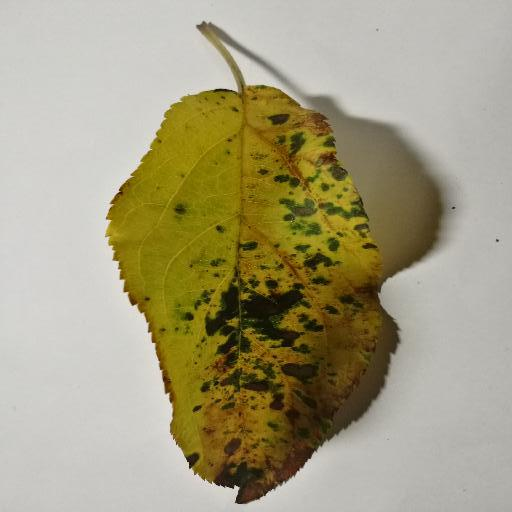Brown_Spot: (207, 120, 423, 505)
